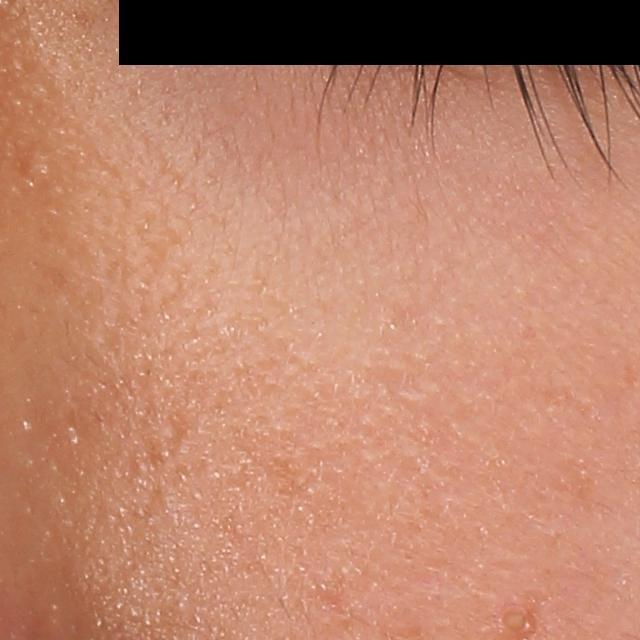pustule: (496, 601, 545, 636)
